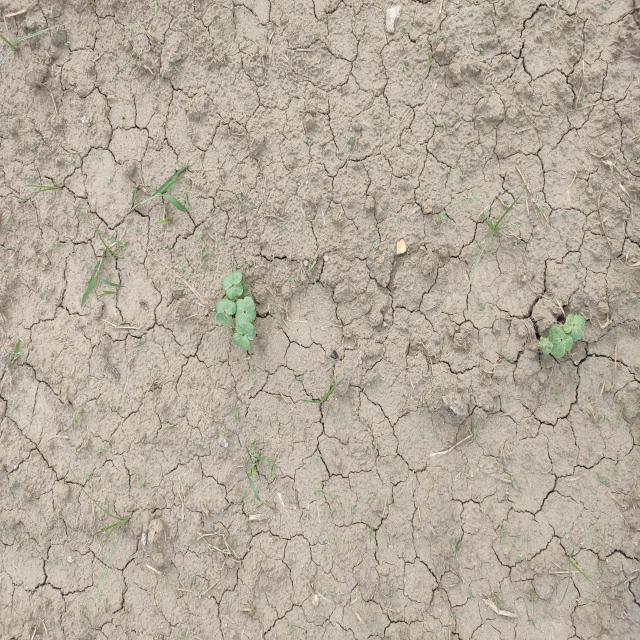seedling_s2: (549, 326, 565, 358), (222, 271, 243, 291), (570, 314, 585, 341), (235, 321, 256, 340), (559, 326, 573, 351), (232, 333, 251, 351), (243, 296, 255, 323), (235, 299, 246, 328), (226, 282, 243, 300), (216, 299, 236, 314), (216, 312, 233, 326), (562, 314, 574, 333), (543, 335, 554, 355), (538, 337, 547, 350)
